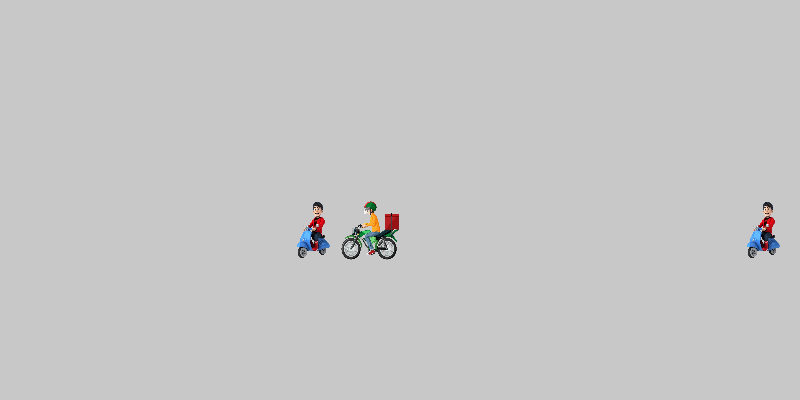helmet: (340, 200, 400, 260)
no_helmet: (285, 200, 345, 260), (735, 200, 795, 260)
